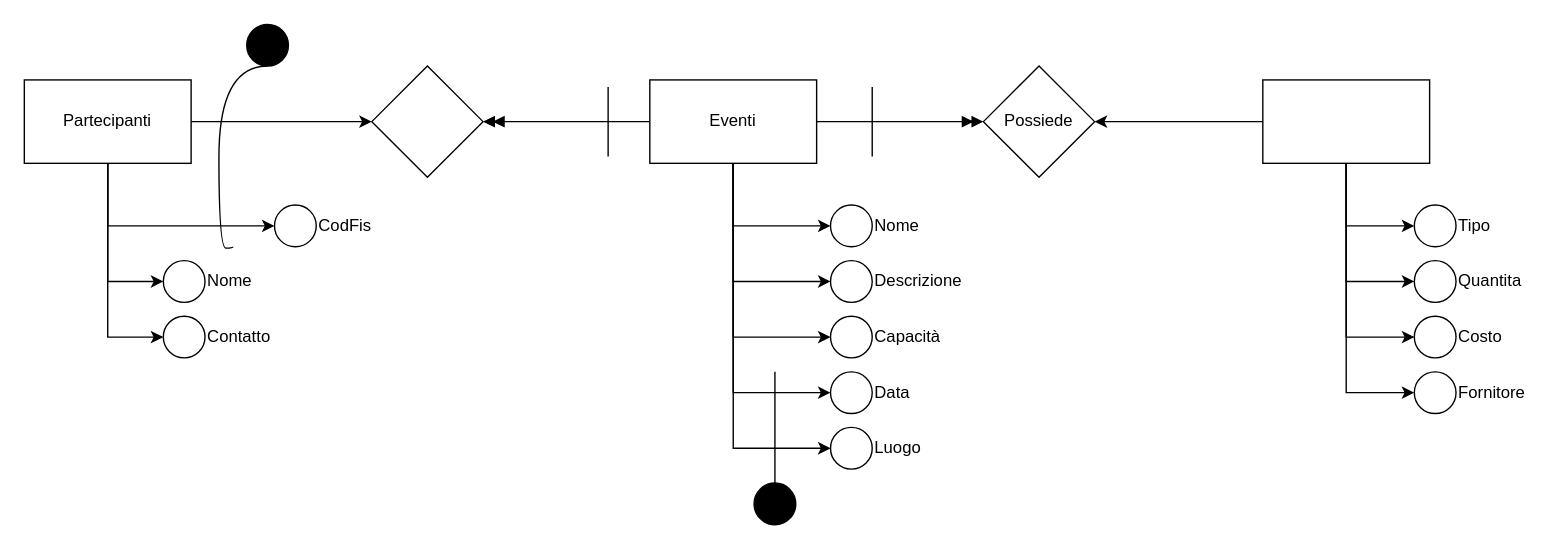
The diagram is 1564 pixels wide and 549 high, and some of its shapes have lost their labels. Each missing label, with the centre of its shape:
"Ospita" belongs at (x=426, y=121).
"Risorse" belongs at (x=1345, y=121).
